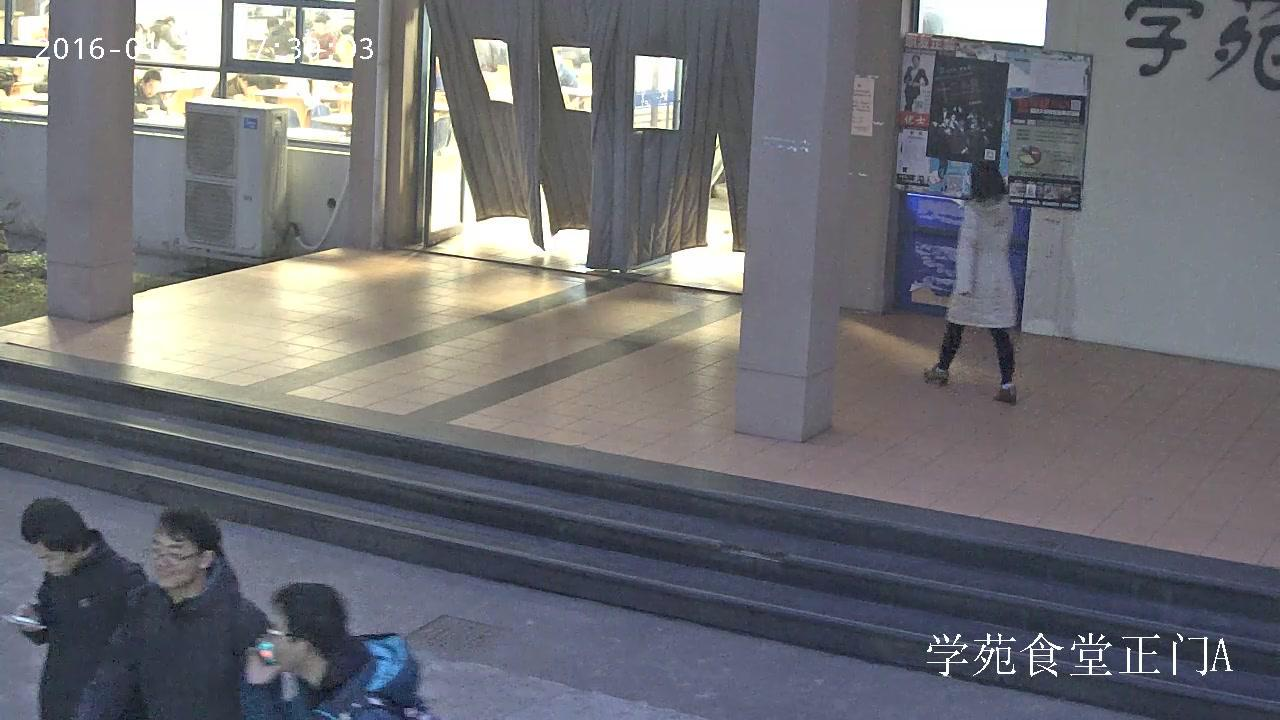person: (73, 504, 283, 720), (0, 497, 149, 720), (233, 581, 435, 720), (921, 158, 1017, 402), (132, 70, 167, 119), (901, 54, 928, 111), (263, 16, 295, 55), (211, 72, 253, 98), (332, 25, 357, 66)
